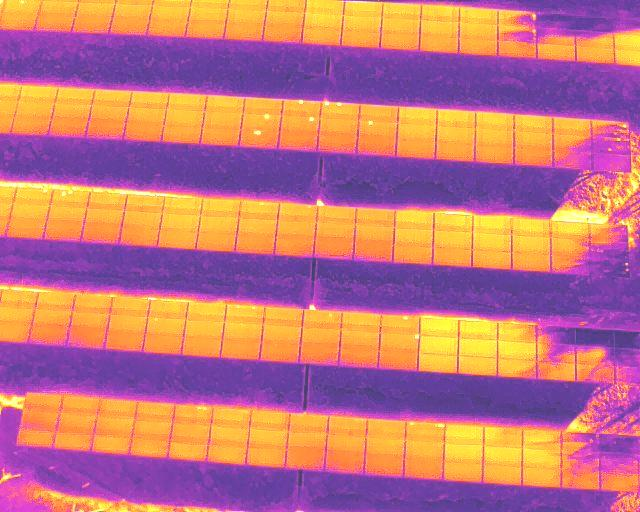Cell: (146, 317, 185, 336), (239, 130, 279, 148), (238, 199, 278, 217), (304, 310, 341, 329), (380, 333, 419, 351), (498, 9, 537, 27), (241, 114, 282, 130), (359, 120, 397, 137), (381, 316, 419, 333), (280, 101, 320, 117), (279, 116, 319, 131), (499, 28, 537, 43), (13, 189, 51, 204), (4, 0, 39, 15)
Cell-Multi: (405, 421, 444, 443), (226, 305, 264, 324), (174, 406, 211, 424), (590, 261, 630, 277), (591, 137, 630, 153), (321, 102, 359, 118), (591, 122, 629, 138), (50, 191, 91, 204)
No-Anomaly: (523, 428, 561, 451), (365, 455, 405, 476), (286, 449, 325, 470), (183, 337, 222, 357), (339, 349, 378, 369), (57, 415, 96, 435), (483, 465, 522, 485), (45, 220, 86, 239), (156, 230, 199, 248), (67, 328, 105, 348), (378, 352, 418, 371), (212, 407, 250, 427), (249, 411, 289, 430), (289, 414, 329, 433), (367, 419, 405, 439), (133, 420, 171, 440), (211, 426, 249, 446), (484, 447, 522, 467), (523, 468, 561, 488), (80, 223, 122, 241), (264, 307, 303, 326), (223, 322, 262, 341), (301, 347, 340, 366), (419, 354, 458, 373), (328, 417, 367, 436), (171, 424, 210, 443), (484, 428, 523, 447), (249, 430, 288, 449), (326, 454, 365, 473), (405, 460, 444, 479), (246, 448, 285, 467), (20, 411, 57, 431), (278, 132, 319, 150), (207, 447, 248, 465), (342, 312, 380, 331), (187, 303, 225, 322), (421, 336, 459, 355), (222, 340, 260, 359), (61, 396, 99, 415), (136, 401, 174, 420), (445, 425, 483, 444), (260, 344, 300, 362), (197, 231, 237, 249), (433, 247, 472, 265), (236, 234, 275, 252), (459, 322, 498, 340), (302, 329, 341, 347), (341, 331, 380, 349), (459, 338, 498, 356), (497, 341, 536, 359), (396, 141, 435, 159), (475, 144, 514, 162), (395, 210, 434, 228), (511, 218, 550, 236), (119, 227, 158, 245), (405, 442, 444, 460), (513, 118, 554, 135), (354, 241, 395, 258), (316, 135, 357, 152), (4, 220, 45, 237), (111, 298, 149, 316), (109, 315, 147, 333), (263, 326, 301, 344), (30, 327, 68, 345), (143, 336, 181, 354), (278, 204, 316, 222), (552, 223, 590, 241), (458, 357, 496, 375), (131, 439, 169, 457), (523, 450, 561, 468), (445, 462, 483, 480), (512, 256, 552, 273), (275, 237, 315, 254), (357, 138, 397, 155), (74, 295, 111, 313), (107, 333, 144, 351), (201, 199, 238, 217), (99, 398, 136, 416), (95, 417, 132, 435), (26, 393, 61, 412), (47, 119, 86, 136), (512, 237, 551, 254), (394, 228, 433, 245), (288, 431, 327, 448), (91, 436, 130, 453), (327, 437, 366, 454), (85, 123, 126, 139), (159, 214, 200, 230), (33, 310, 71, 327), (421, 21, 459, 38), (420, 318, 458, 335), (460, 8, 498, 25), (17, 430, 55, 447), (445, 444, 483, 461), (204, 97, 244, 113), (164, 110, 204, 126), (202, 113, 242, 129), (128, 92, 168, 108), (124, 125, 164, 141), (162, 198, 202, 214), (9, 204, 49, 220), (316, 207, 356, 223), (121, 211, 161, 227), (316, 223, 356, 239), (365, 439, 405, 455), (473, 252, 512, 268), (394, 246, 433, 262), (315, 239, 354, 255), (243, 98, 282, 114), (382, 3, 421, 19), (14, 102, 53, 118), (89, 106, 128, 122), (437, 111, 476, 127), (318, 119, 357, 135), (473, 235, 512, 251), (498, 324, 537, 340), (397, 123, 436, 139), (163, 127, 202, 143), (304, 14, 343, 30), (473, 218, 512, 234), (169, 444, 208, 460), (199, 129, 240, 144), (84, 208, 125, 223), (276, 222, 317, 237), (72, 312, 108, 329), (37, 293, 73, 310), (186, 322, 222, 339), (460, 25, 498, 41), (475, 114, 513, 130), (38, 1, 76, 17), (514, 134, 552, 150), (435, 230, 473, 246), (342, 17, 380, 33), (54, 434, 92, 450), (498, 43, 536, 59), (397, 108, 437, 123), (12, 118, 52, 133), (18, 86, 58, 101), (355, 210, 395, 225), (236, 218, 276, 233), (381, 34, 418, 50), (126, 108, 165, 123), (55, 89, 94, 104), (436, 128, 475, 143), (475, 129, 514, 144), (436, 144, 475, 159), (514, 151, 553, 166), (342, 33, 381, 48), (149, 301, 187, 316), (110, 20, 148, 35), (35, 18, 73, 33), (167, 95, 205, 110), (53, 104, 91, 119), (125, 195, 163, 210), (434, 215, 472, 230), (421, 37, 459, 52), (224, 26, 264, 40), (199, 217, 239, 231), (354, 226, 394, 240), (75, 3, 112, 18), (554, 120, 591, 135), (264, 27, 301, 42), (91, 91, 128, 106), (359, 105, 398, 119), (113, 6, 152, 20), (227, 11, 266, 25), (459, 40, 498, 54), (304, 0, 343, 14), (149, 22, 187, 36), (382, 19, 420, 33), (187, 24, 225, 38), (344, 1, 382, 15), (265, 13, 303, 27), (87, 195, 125, 209), (48, 205, 86, 219), (303, 30, 341, 44), (537, 45, 575, 59), (576, 48, 614, 62), (1, 15, 36, 30), (72, 19, 109, 33), (188, 10, 227, 23), (151, 9, 189, 22), (422, 7, 459, 20), (268, 0, 305, 13)
Shadowing: (551, 238, 590, 259), (537, 362, 576, 382), (599, 453, 638, 473), (562, 469, 600, 489), (590, 242, 629, 261), (497, 360, 537, 378), (599, 435, 639, 453), (552, 256, 590, 274), (561, 432, 598, 450), (561, 451, 598, 469), (553, 135, 592, 152), (576, 330, 614, 347), (576, 346, 613, 363), (536, 345, 575, 361), (600, 474, 639, 490), (537, 13, 575, 29), (590, 225, 628, 241), (576, 365, 614, 381), (576, 32, 614, 48), (593, 155, 630, 171), (536, 328, 575, 343), (553, 153, 592, 168), (576, 16, 614, 31), (538, 30, 576, 45)
